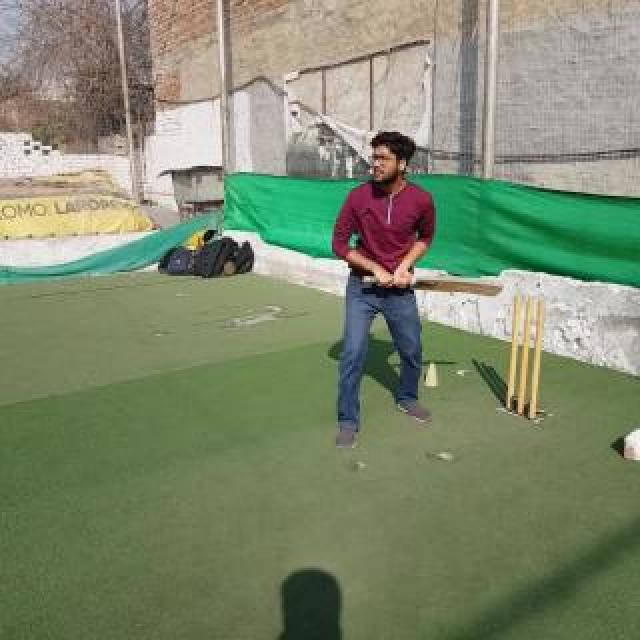bat: (362, 274, 504, 298)
